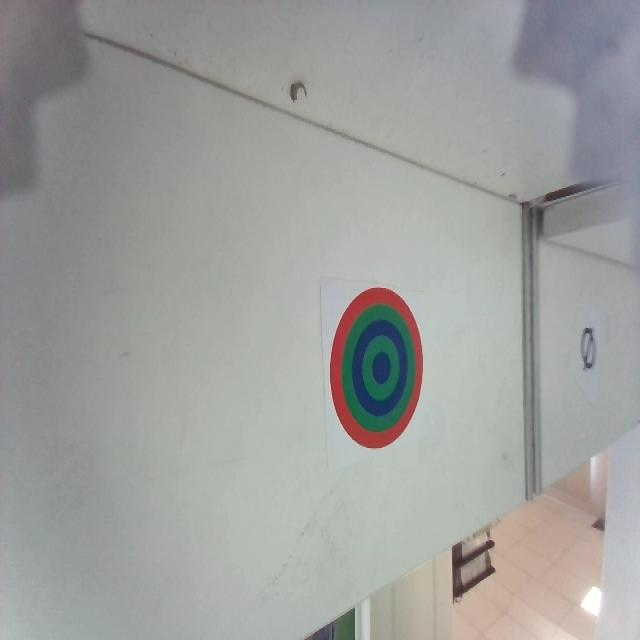cogn: (330, 287, 424, 450)
